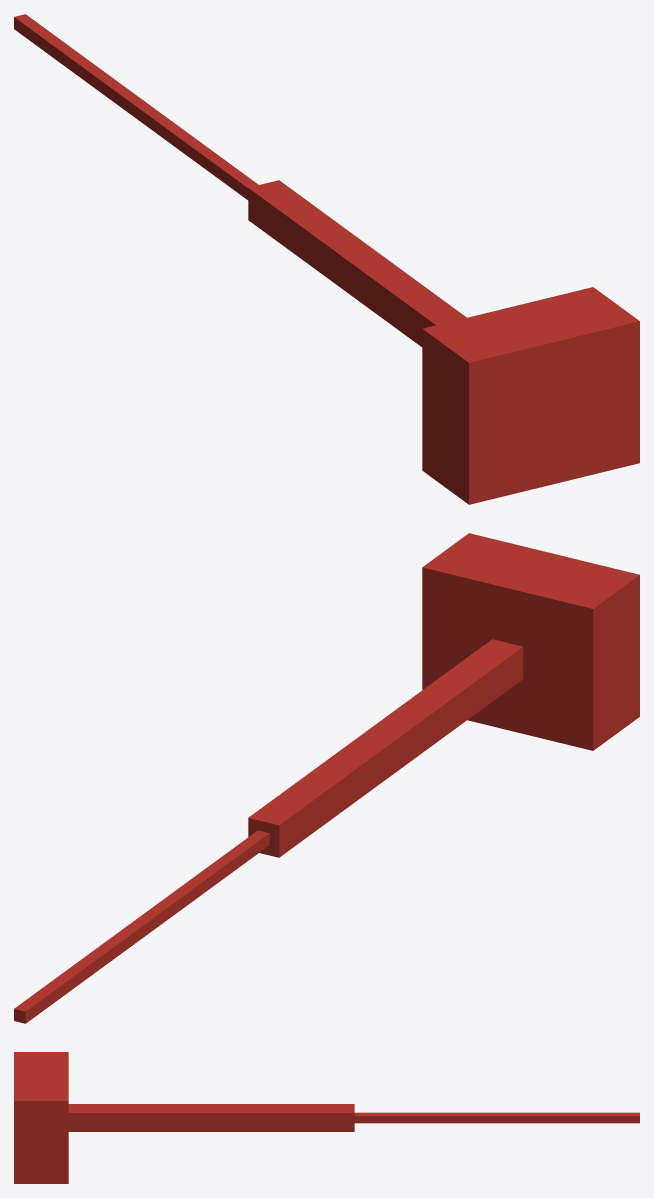
File: Building.glb
The picture shows the model from 3 angles, top to bottom: view 1: azimuth 30°, elevation 25°; view 2: azimuth 150°, elevation 25°; view 3: azimuth 270°, elevation 25°; orthographic projection. The views are drawn at different scales.
Visible parts, largest first — view 1: Building; view 2: Building; view 3: Building.
Boxes of the visible parts, bbox=[...] form: Building: bbox=[14, 14, 639, 504]; Building: bbox=[14, 533, 639, 1023]; Building: bbox=[14, 1052, 639, 1183].
Bounding box in the file's own units: 44.1 × 35 × 239.
